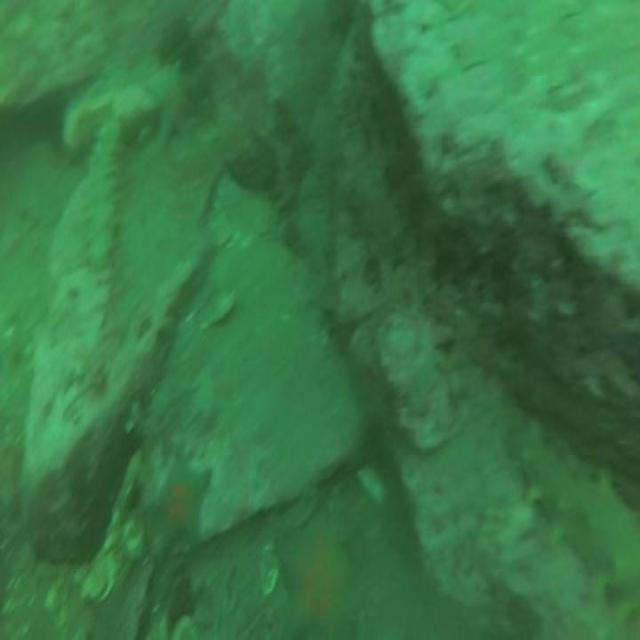holothurian: (520, 437, 640, 640), (84, 114, 124, 278)
starfish: (274, 507, 381, 640), (147, 441, 214, 564)
